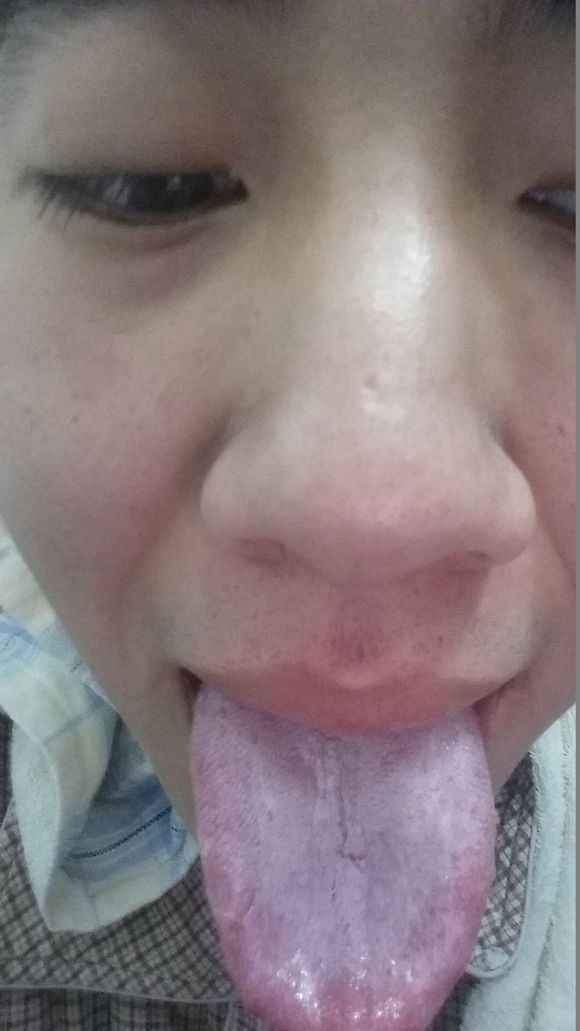baitaishe: (189, 680, 498, 1031)
chihenshe: (204, 852, 255, 995)
liewenshe: (331, 785, 371, 872)
